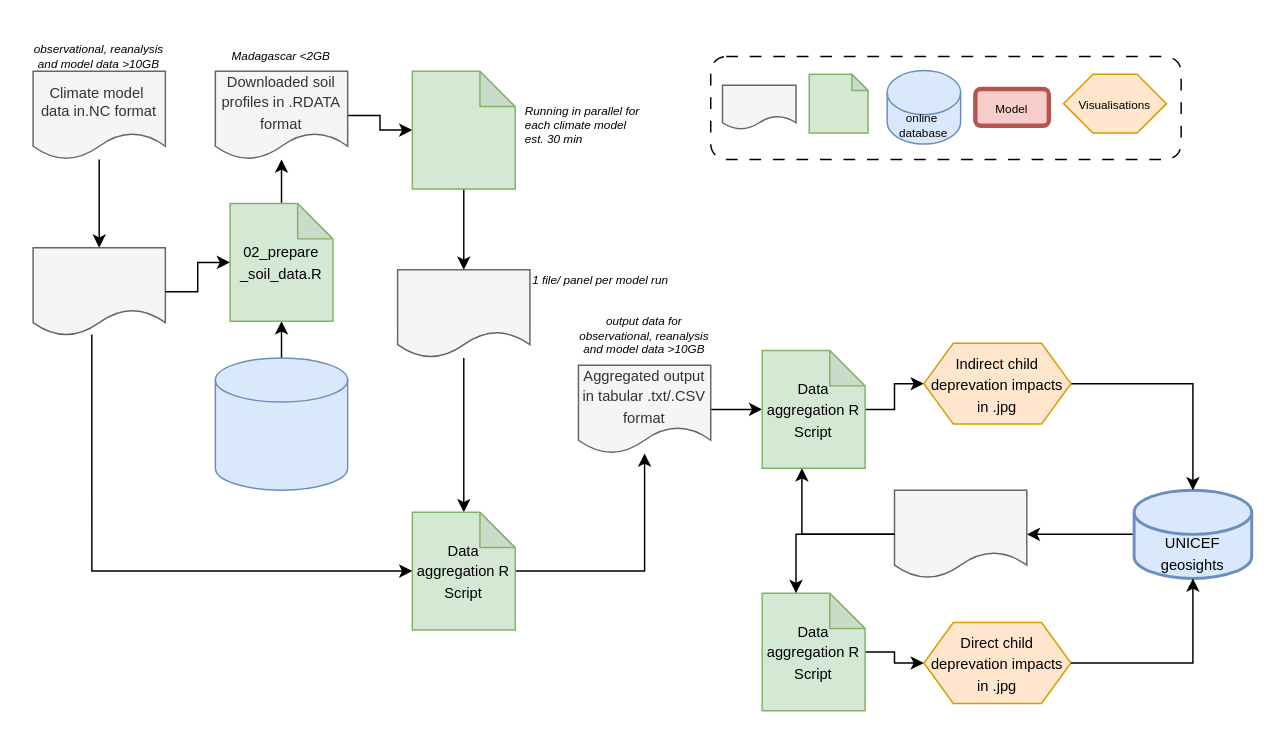
The diagram is 1277 pixels wide and 736 high, and some of its shapes have lost their labels. Here are the shapes that lost their labels. From the top down, the centre of each, then its label:
(x=758, y=106): local data
(x=838, y=103): Script
(x=463, y=129): 03_ run APSIM_loop.R
(x=98, y=291): Country/ region shapefile
(x=463, y=313): Outputs in tabular .txt/.CSV
(x=281, y=423): soil profile data in .JSON/ .XML format
(x=960, y=533): Aggregated population data in .CSV format
